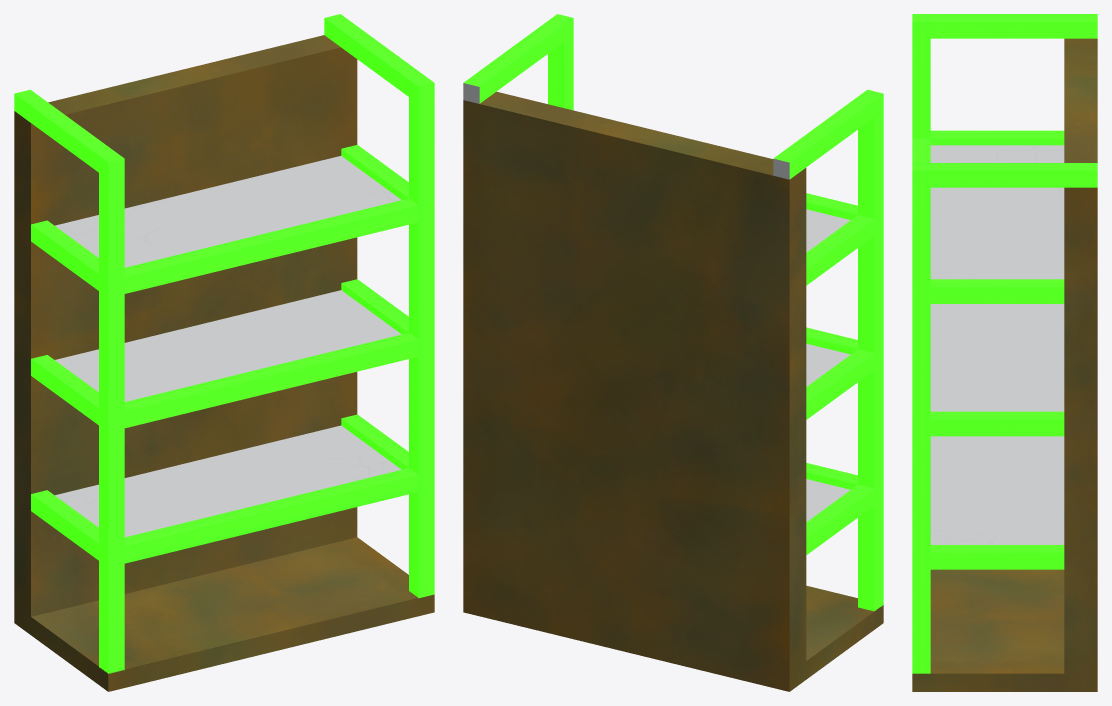
File: Shelf_Shop.fbx
3 renders of one model, left to right at view 1: azimuth 30°, elevation 25°; view 2: azimuth 150°, elevation 25°; view 3: azimuth 270°, elevation 25°, orthographic.
Parts seen in each view (by area): view 1: Shelf Shop; view 2: Shelf Shop; view 3: Shelf Shop.
Boxes of the visible parts, box(x1,y1,x2,y2) form: Shelf Shop: box(14, 14, 434, 691); Shelf Shop: box(463, 14, 883, 691); Shelf Shop: box(912, 14, 1097, 691).
Bounding box in the file's own units: 173 × 268 × 86.32.
